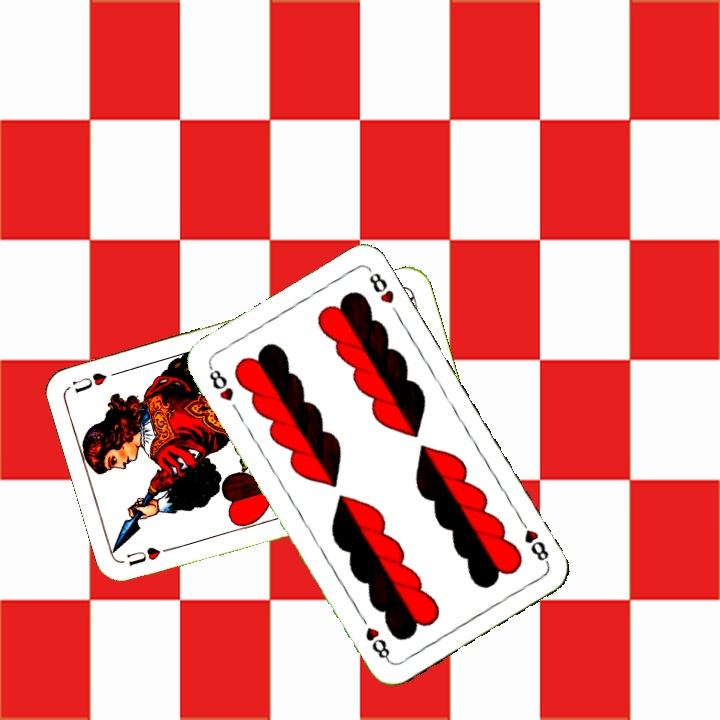H8: (514, 514, 552, 567), (204, 362, 236, 404)
HU: (122, 542, 180, 569)
